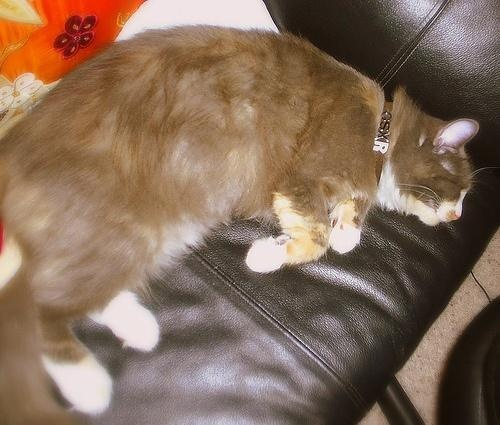cat: (4, 28, 481, 424)
sofa: (3, 4, 500, 425)
